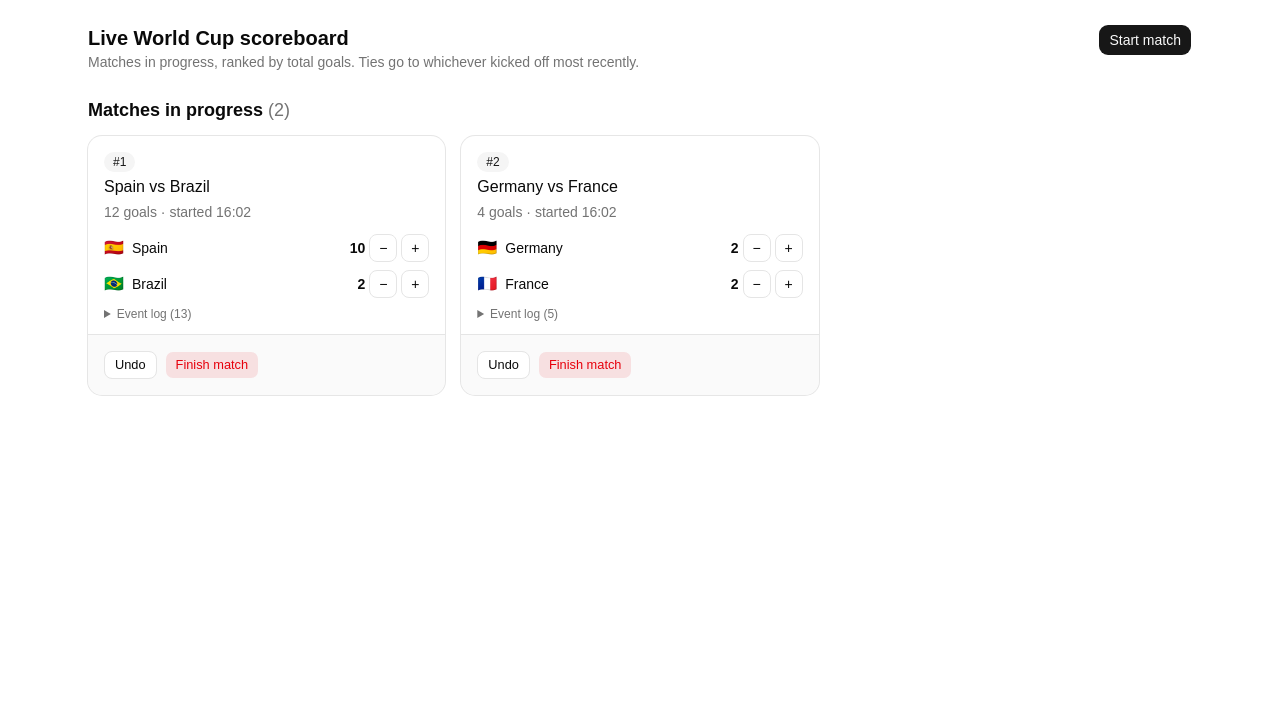
Test: the scoreboard › finished matches › leave the in-progress summary and appear in their own collapsed section
This screenshot has width=1280, height=720.
What coordinates should you click on to do the following:
click the button with aria-label "Finish match: Spain versus Brazil"
I would click on:
 (212, 365)
Its box is left=165, top=351, right=259, bottom=379.
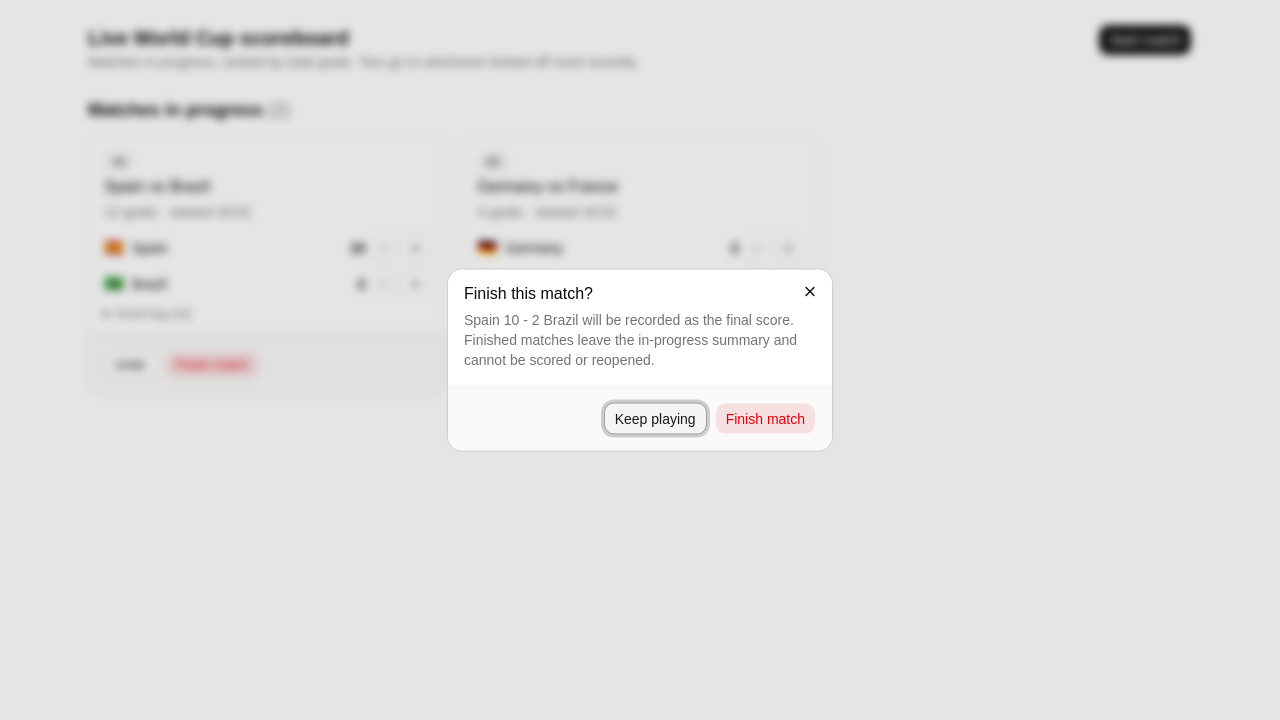
What coordinates should you click on to do the following:
click the button "Finish match"
I would click on:
 (765, 418)
Its box is left=715, top=402, right=816, bottom=434.
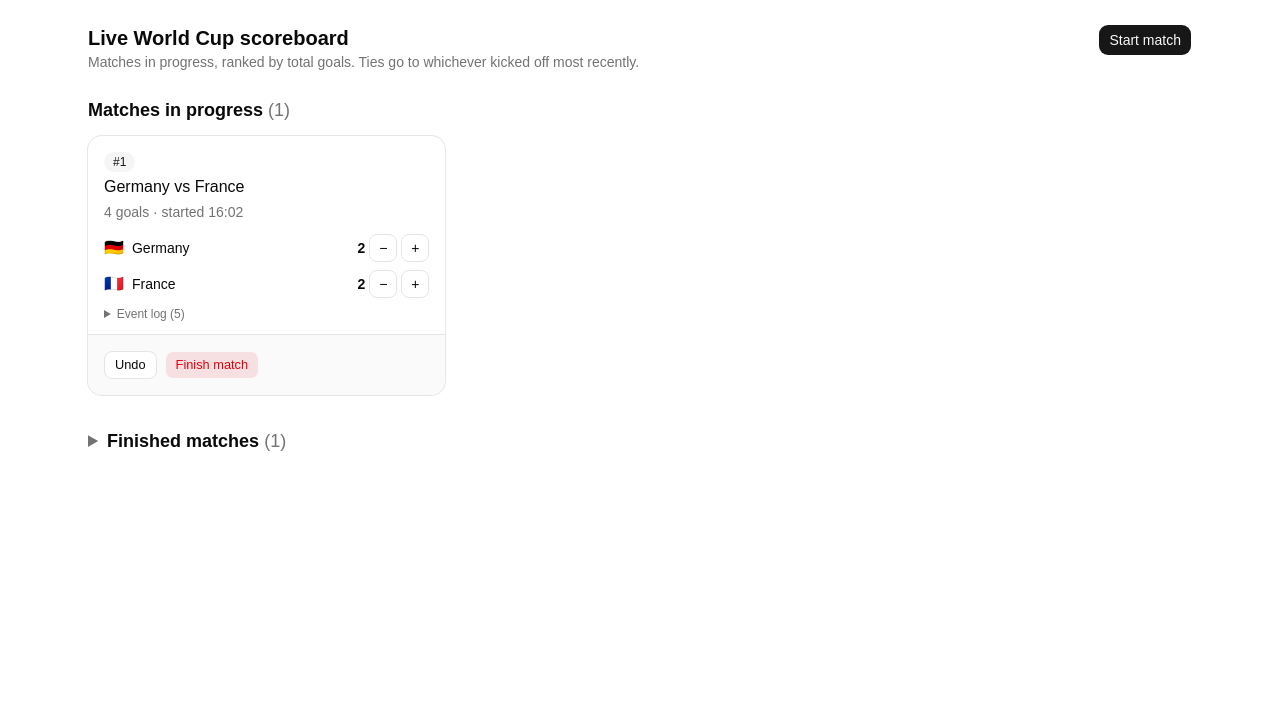
Expected: the text "Finished matches (1)" is shown, left=107, top=431, right=286, bottom=451
